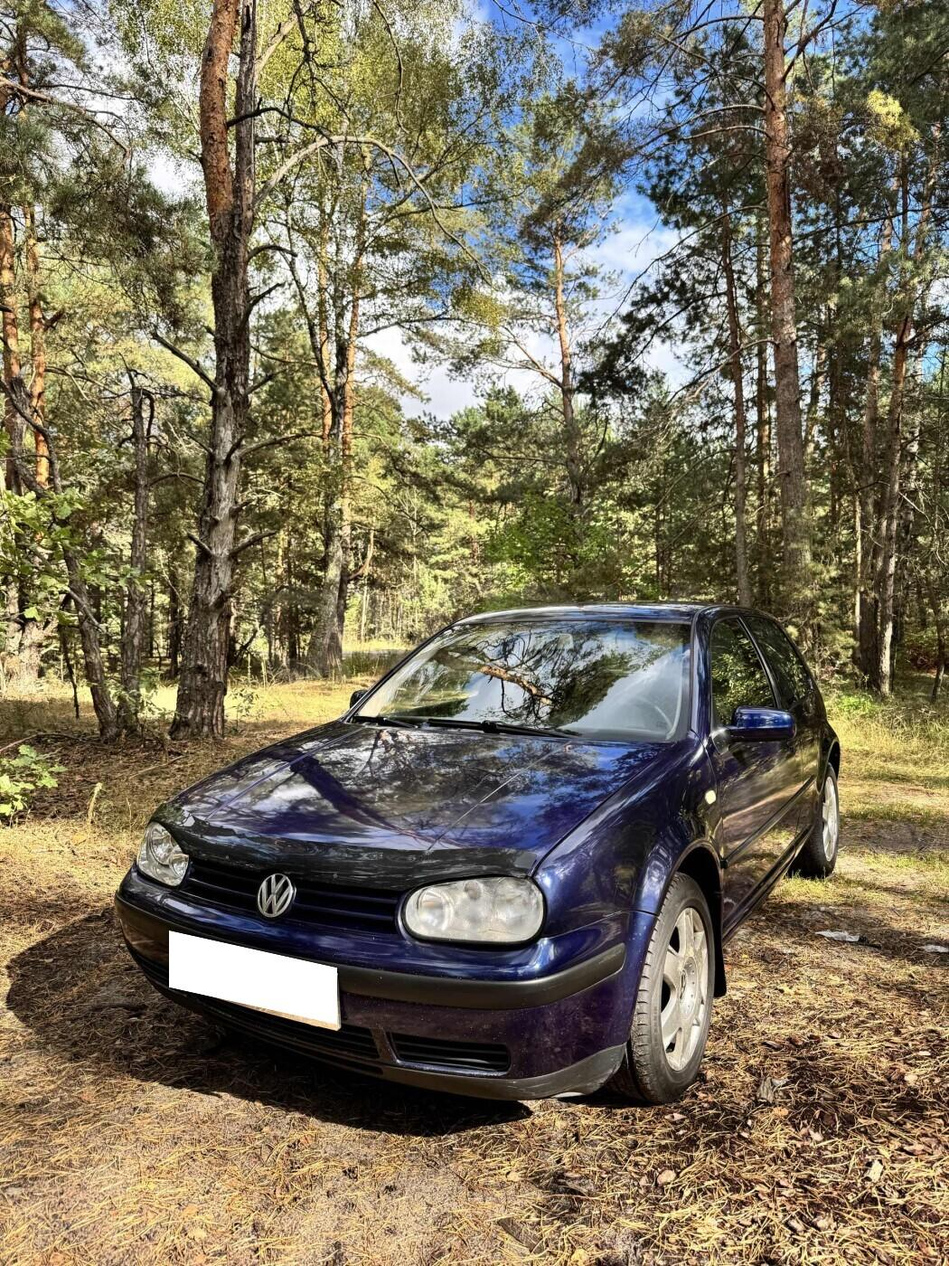Golf_1997-2006: (111, 593, 850, 1103)
